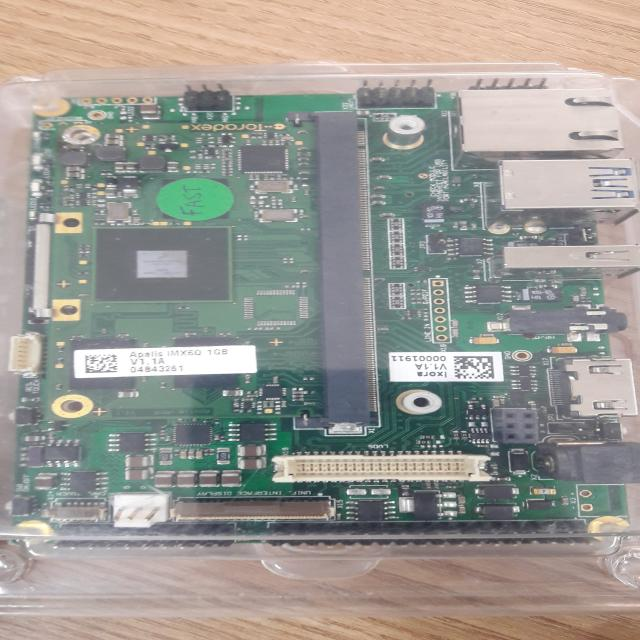som: (42, 108, 335, 425)
